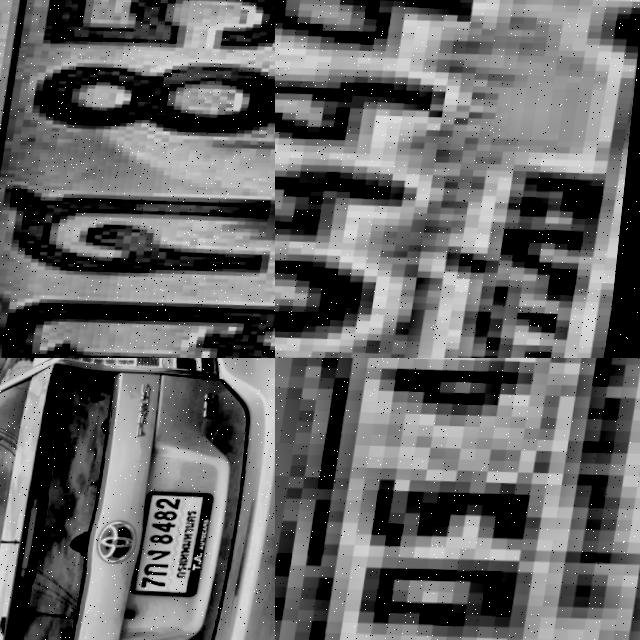license-plate: (275, 0, 640, 358), (288, 358, 640, 640), (0, 0, 275, 358), (135, 488, 223, 600)
